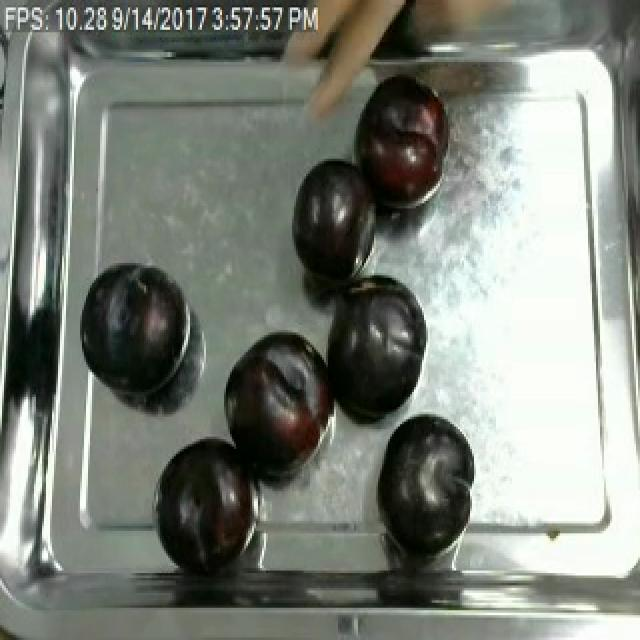Fruit: (216, 325, 334, 486), (320, 270, 430, 430), (74, 260, 190, 400), (372, 409, 480, 558), (152, 429, 262, 571), (348, 72, 454, 213), (286, 154, 376, 288)
